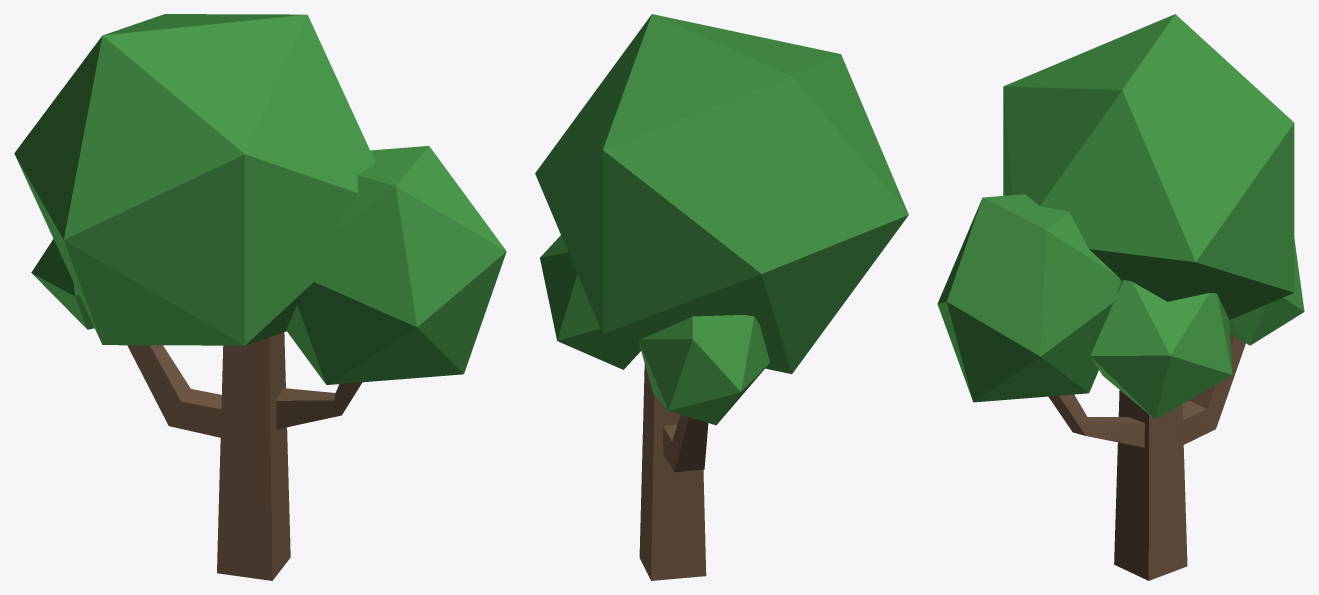
File: TreeThree.fbx
The picture shows the model from 3 angles, left to right: view 1: azimuth 30°, elevation 25°; view 2: azimuth 150°, elevation 25°; view 3: azimuth 270°, elevation 25°; orthographic projection. The views are drawn at different scales.
Parts seen in each view (by area): view 1: ALBERO4; view 2: ALBERO4; view 3: ALBERO4.
Boxes of the visible parts, box(x1,y1,x2,y2) form: ALBERO4: box(14, 14, 506, 580); ALBERO4: box(535, 14, 908, 580); ALBERO4: box(937, 14, 1304, 580).
Size of the model in its own units: 233 by 330 by 224.
